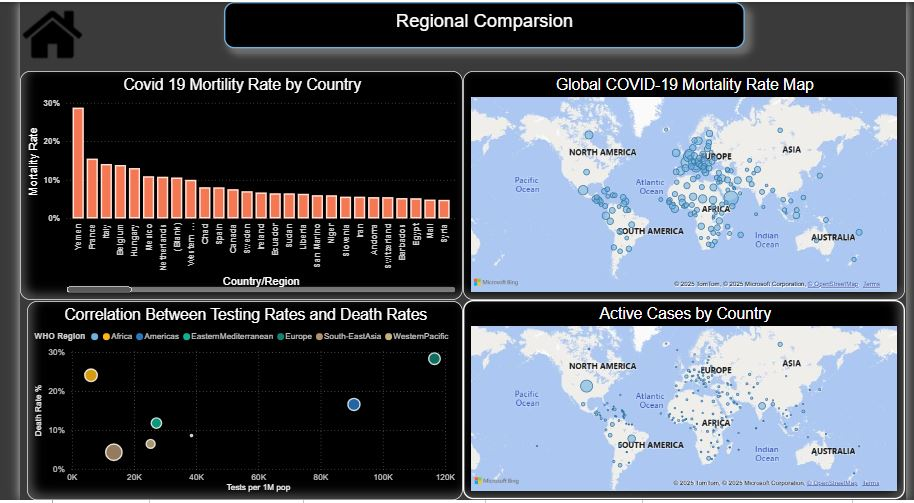

Layout of this report page (visuals, bound fields, positions):
{"tool":"powerbi","page":{"name":"Regional Comparison","canvas":[1280,720],"ordinal":3},"visuals":[{"type":"columnChart","title":"Covid 19 Mortility Rate by Country","fields":{"Category":["Country Wise.Country/Region"],"Y":["Country Wise.Mortality Rate"]},"box":[0,99.8,640.5,331.1],"z":0},{"type":"map","title":"Global COVID-19 Mortality Rate Map","fields":{"Category":["Country Wise.Country/Region"],"Size":["Country Wise.Mortality Rate"]},"box":[640.5,99.8,639,331.1],"z":1000},{"type":"scatterChart","title":"Correlation Between Testing Rates and Death Rates","fields":{"X":["Worldometer.Tests per 1M pop"],"Size":["Sum(Worldometer.Population)"],"Series":["Worldometer.WHO Region"],"Y":["Worldometer.Deaths/1M pop"]},"box":[10.1,432.3,630.4,287.7],"z":2000},{"type":"map","title":"Active Cases by Country","fields":{"Category":["Worldometer.Country"],"Size":["Sum(Worldometer.Active_cases)"]},"box":[640.5,430.8,639,287.7],"z":3000},{"type":"textbox","box":[294.9,0,753.3,66.5],"z":4000},{"type":"actionButton","box":[0,0,96.9,93.8],"z":5000}]}

Visuals, with their boxes in screenshot pixels (x1, y1, x2, y2), scaled from the page's 1280x720 canvas onto the 914x503 screenshot:
"Covid 19 Mortility Rate by Country" columnChart: left=0, top=70, right=457, bottom=301
"Global COVID-19 Mortality Rate Map" map: left=457, top=70, right=913, bottom=301
"Correlation Between Testing Rates and Death Rates" scatterChart: left=7, top=302, right=457, bottom=502
"Active Cases by Country" map: left=457, top=301, right=913, bottom=502
textbox: left=211, top=0, right=748, bottom=46
actionButton: left=0, top=0, right=69, bottom=66
